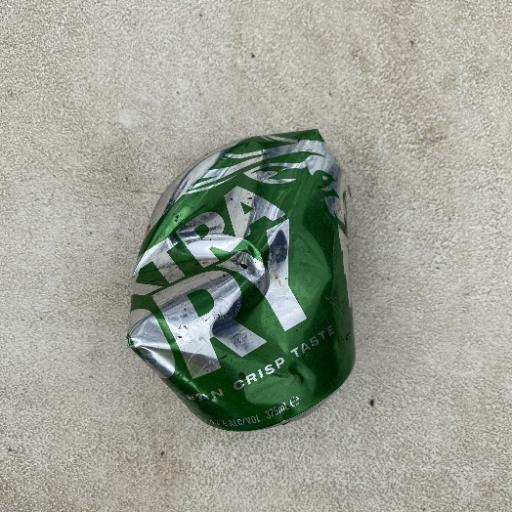Metal: (124, 127, 358, 433)
